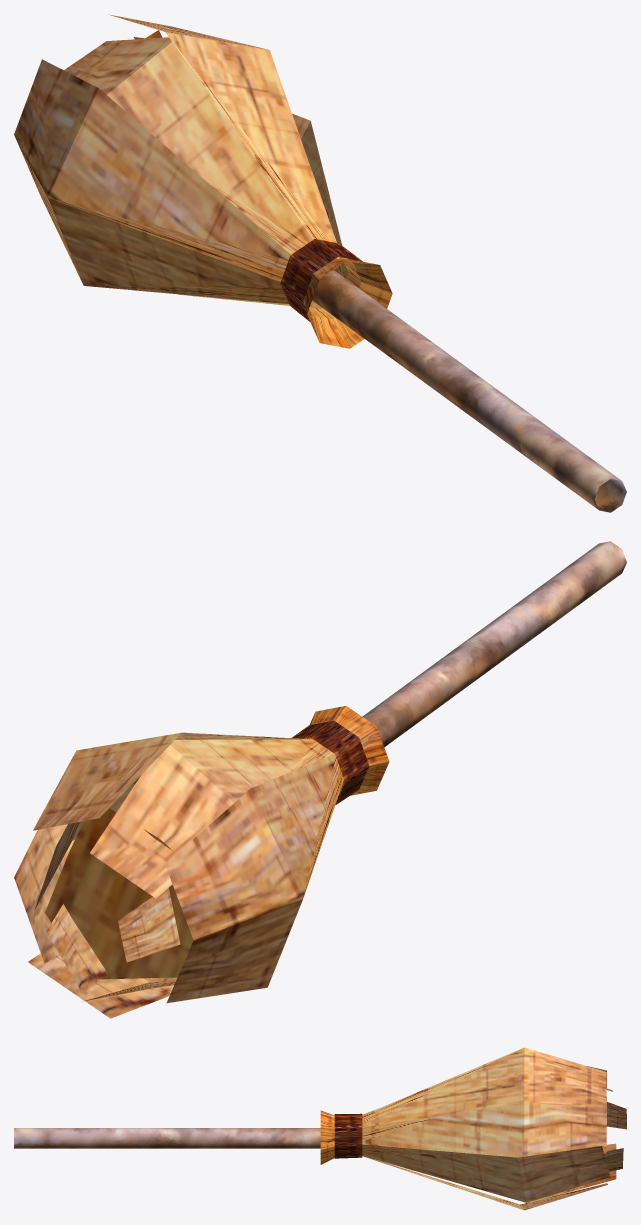
File: wizard broom.fbx
3 renders of one model, top to bottom at view 1: azimuth 30°, elevation 25°; view 2: azimuth 150°, elevation 25°; view 3: azimuth 270°, elevation 25°, orthographic. The views are drawn at different scales.
Parts seen in each view (by area): view 1: broom; view 2: broom; view 3: broom.
Boxes of the visible parts, box(x1,y1,x2,y2) form: broom: box(14, 14, 626, 512); broom: box(14, 541, 626, 1018); broom: box(14, 1047, 626, 1210).
Bounding box in the file's own units: 0.3918 × 0.3797 × 1.37.
